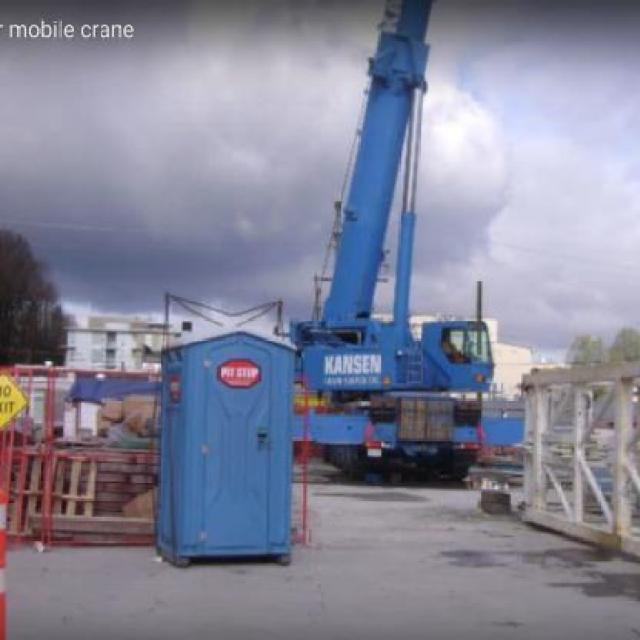Mobile Crane: (216, 0, 534, 492)
